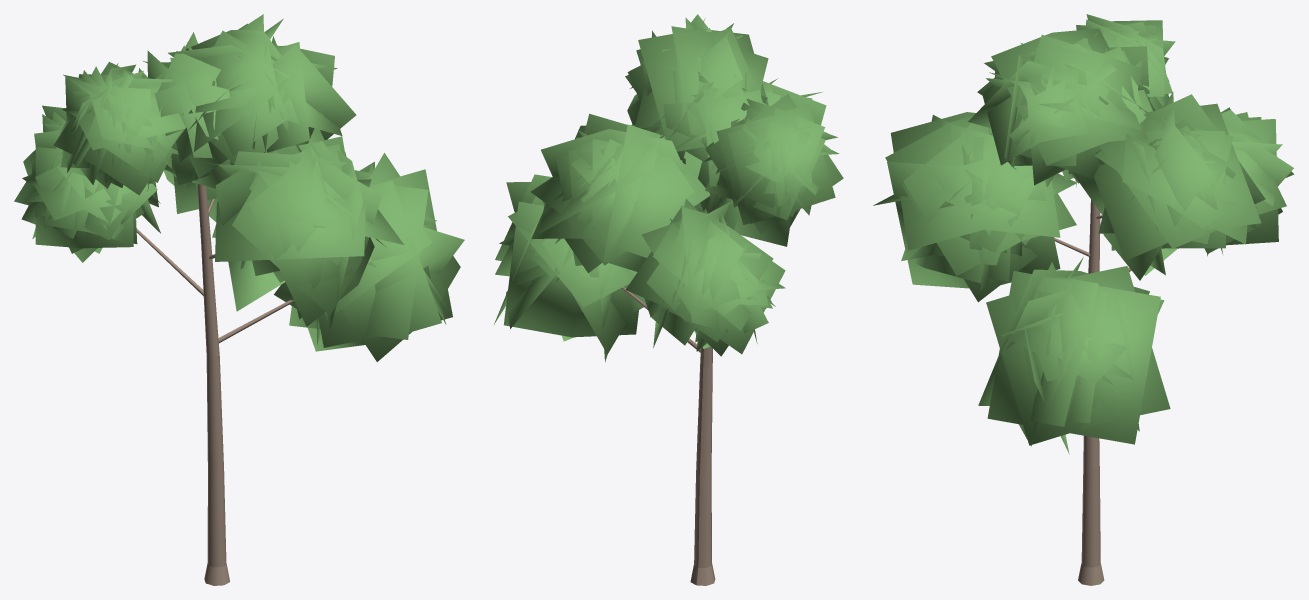
Rendered from v15-pohon-ramping.glb.
3 views of the same model, side by side, from view 1: azimuth 30°, elevation 25°; view 2: azimuth 150°, elevation 25°; view 3: azimuth 270°, elevation 25° (orthographic). The views are drawn at different scales.
Visible parts, largest first — view 1: v15-pohon-ramping_daun, v15-pohon-ramping_kulit; view 2: v15-pohon-ramping_daun, v15-pohon-ramping_kulit; view 3: v15-pohon-ramping_daun, v15-pohon-ramping_kulit.
Part boxes in pixels (x1,y1,x2,y2): v15-pohon-ramping_daun: [14, 14, 464, 361]; v15-pohon-ramping_kulit: [136, 184, 293, 585]; v15-pohon-ramping_daun: [494, 14, 843, 362]; v15-pohon-ramping_kulit: [621, 202, 716, 585]; v15-pohon-ramping_daun: [873, 14, 1294, 454]; v15-pohon-ramping_kulit: [1054, 199, 1131, 585].
Size of the model in its own units: 13.05 by 18.76 by 12.9.
